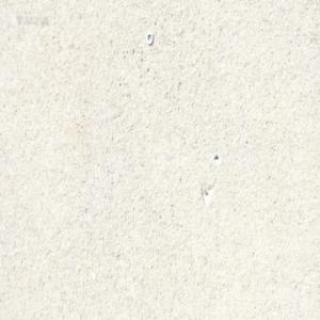Washertrack_idkeyframe: (145, 30, 153, 44)
